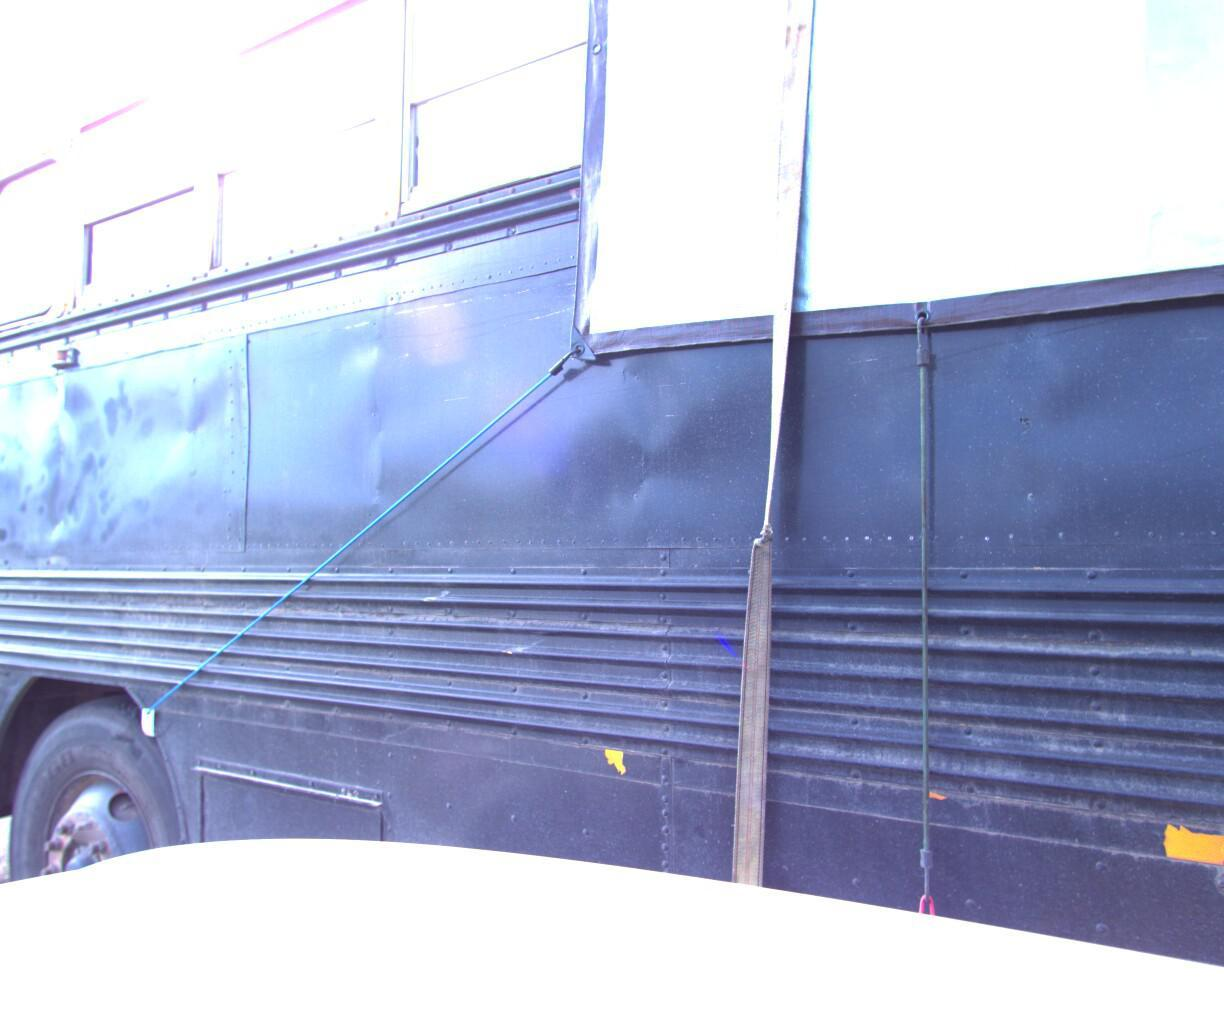car: (0, 497, 18, 807)
